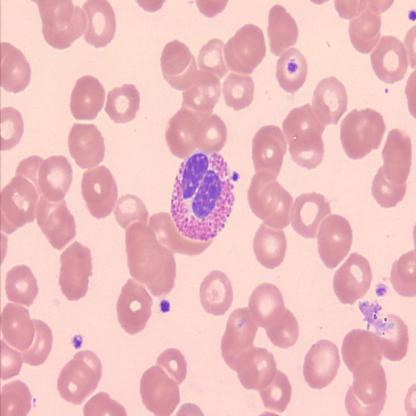Eosinophil: (168, 149, 235, 244)
